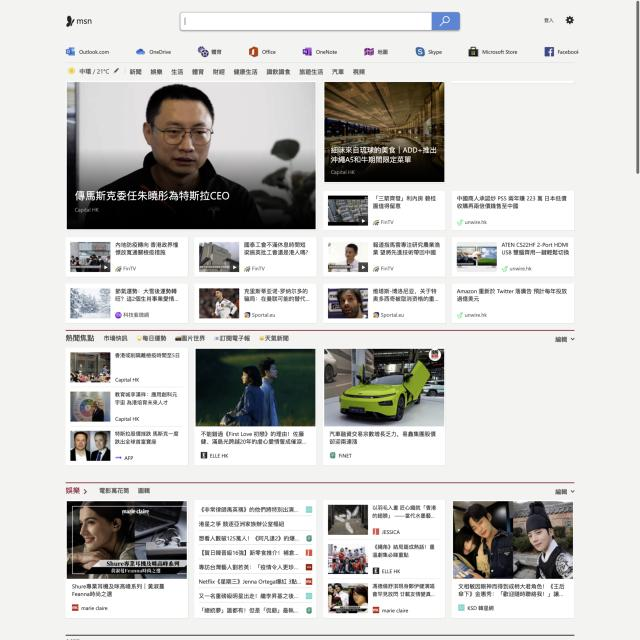input: (178, 10, 462, 33)
logo: (63, 14, 100, 31)
navigation: (64, 44, 582, 60), (128, 64, 367, 80)
